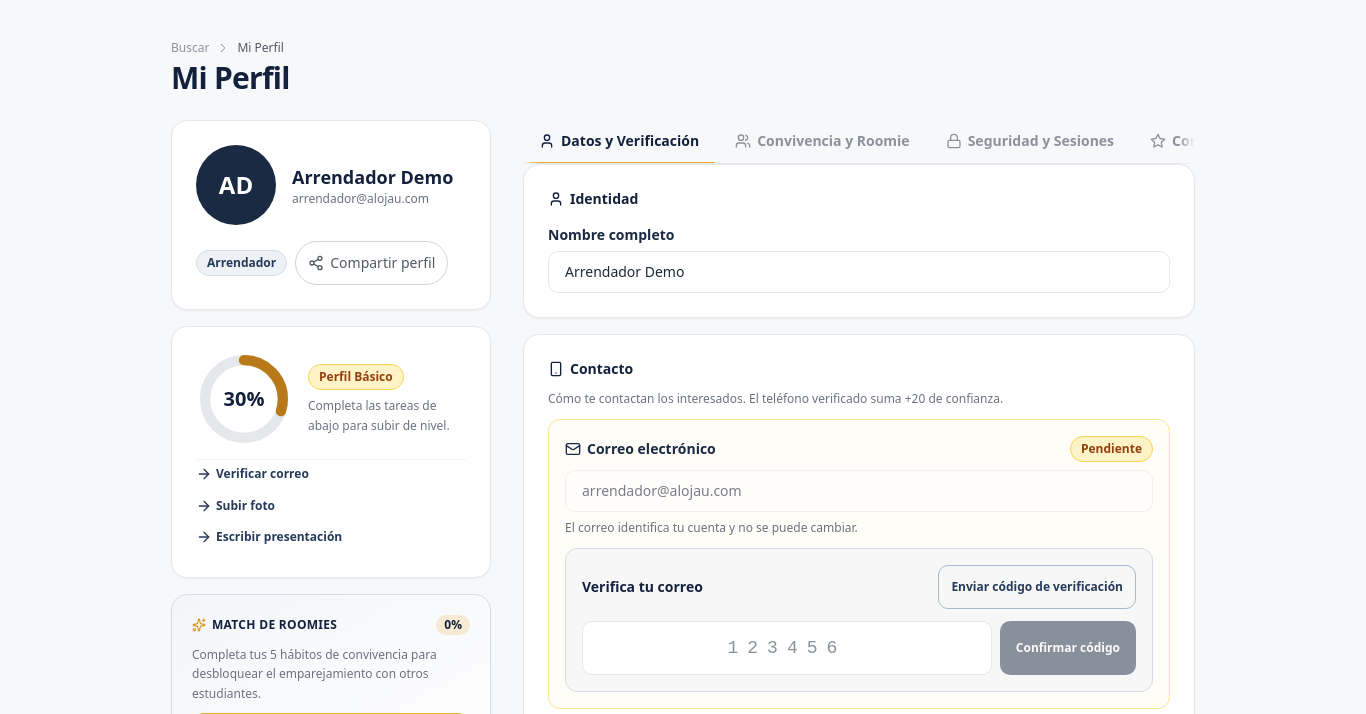
Test: Perfil - Perfil verificable + confianza clara › pestañas con hash: #seguridad muestra fortaleza y bloquea envío débil
Check: the field showing "arrendador@alojau.com" is shown, box [565,470,1153,512]
Click the tab "Seguridad y Sesiones" at coordinates (1030, 142), box [930,120,1130,164]
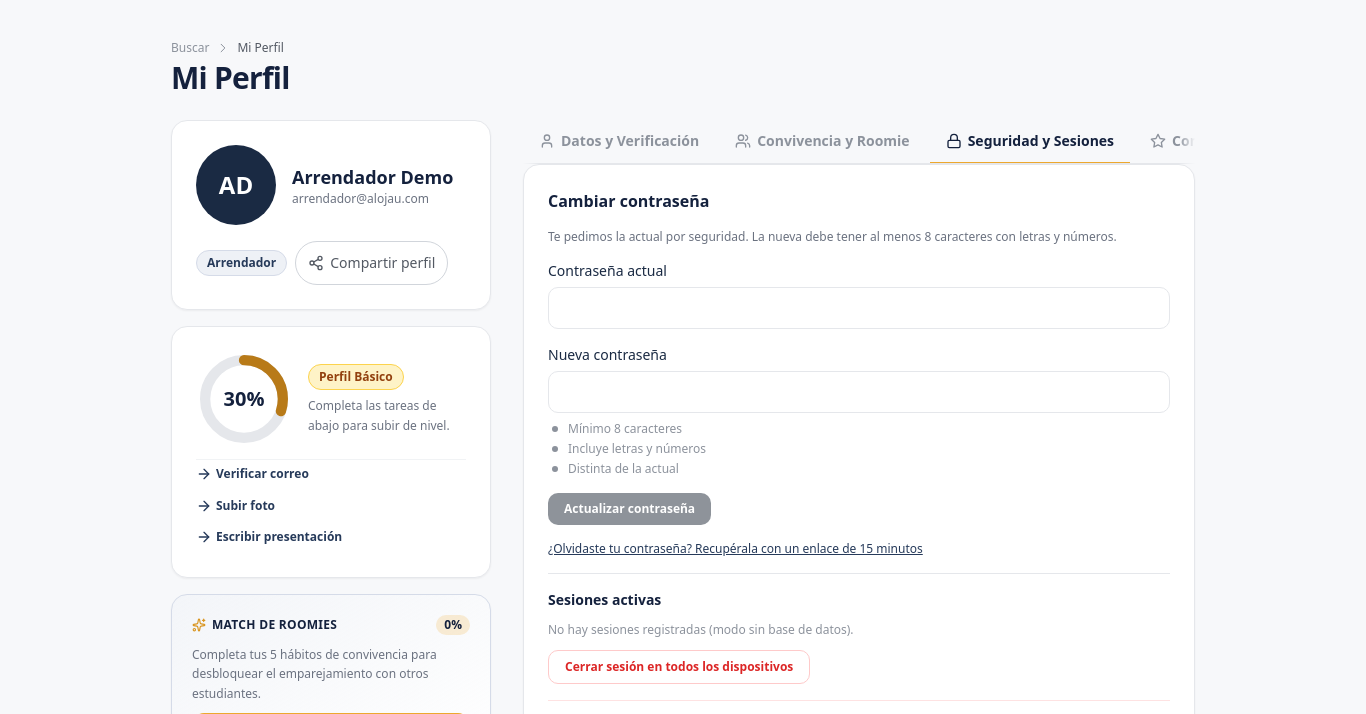
Check: the list item "Mínimo 8 caracteres" is shown, box [552,420,682,437]
Check: the button "Actualizar contraseña" is disabled, box [548,493,711,525]
